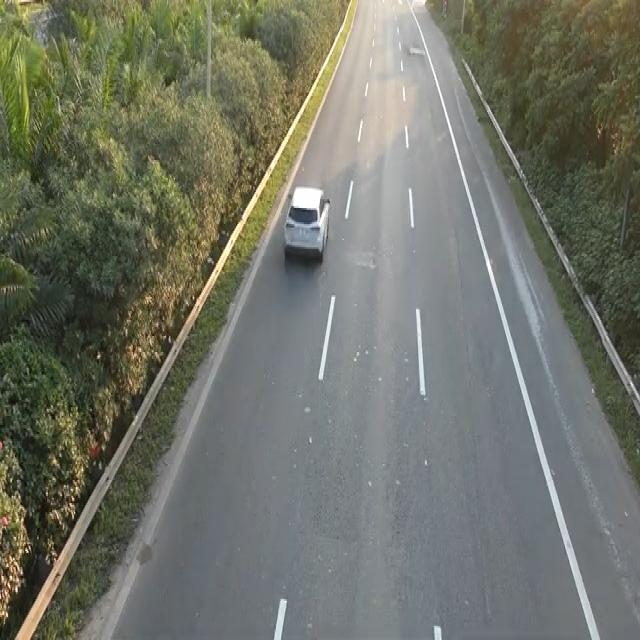car: (281, 181, 332, 263)
